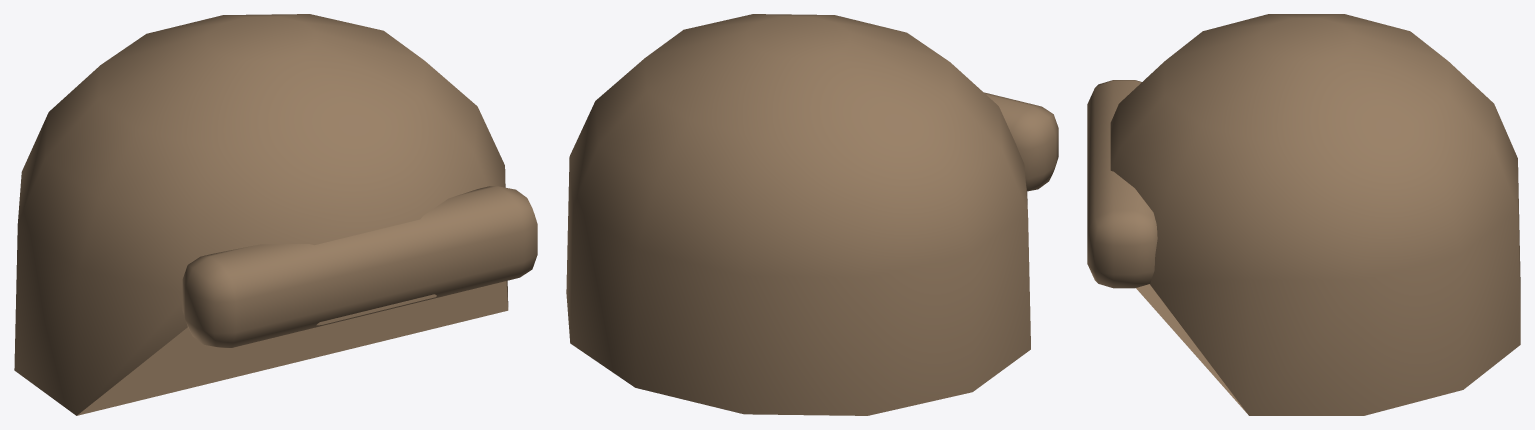
The model's file is CharHairMop.fbx.
The picture shows the model from 3 angles, left to right: view 1: azimuth 30°, elevation 25°; view 2: azimuth 150°, elevation 25°; view 3: azimuth 270°, elevation 25°; orthographic projection. The views are drawn at different scales.
Parts seen in each view (by area): view 1: CharHairMop; view 2: CharHairMop; view 3: CharHairMop.
Boxes of the visible parts, left/top/right/bottom form: CharHairMop: left=14, top=14, right=537, bottom=415; CharHairMop: left=566, top=14, right=1058, bottom=415; CharHairMop: left=1087, top=14, right=1520, bottom=415.
Bounding box in the file's own units: 0.4347 × 0.29 × 0.4091.
